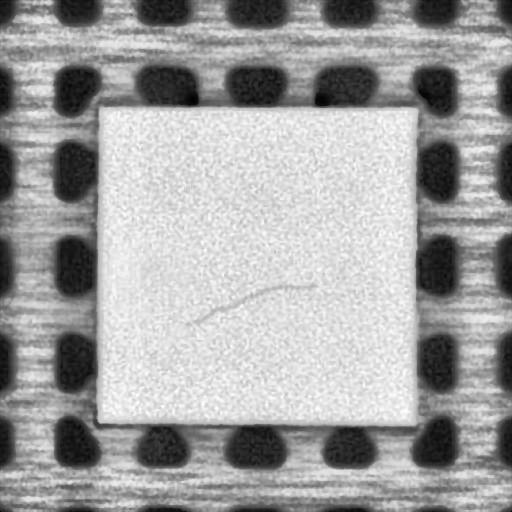DIE_CRACK: (190, 280, 317, 323)
